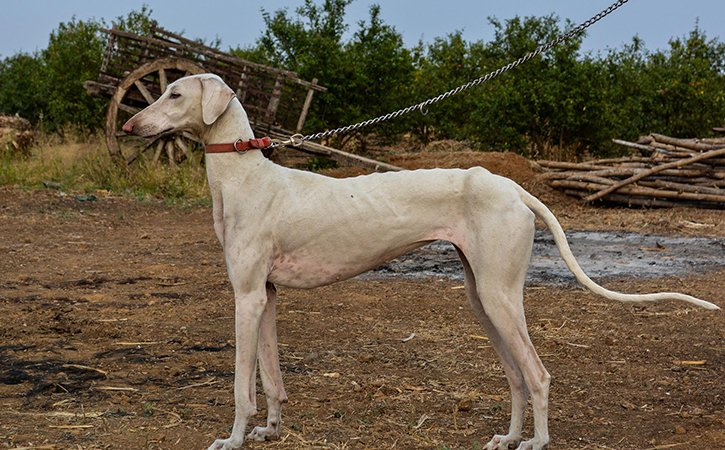dog: (117, 77, 722, 449)
